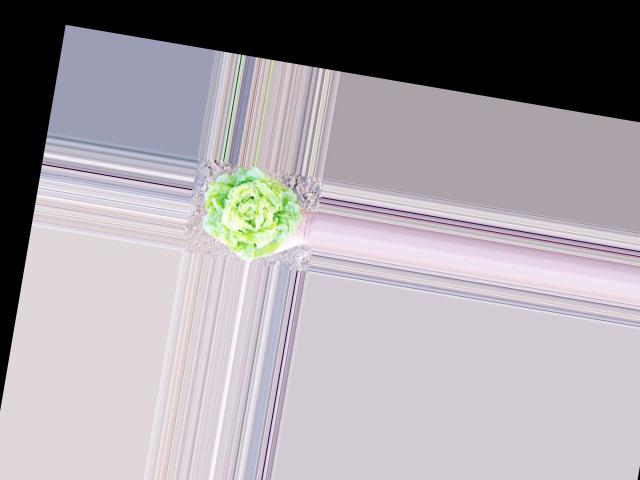lettuce: (194, 161, 301, 264)
